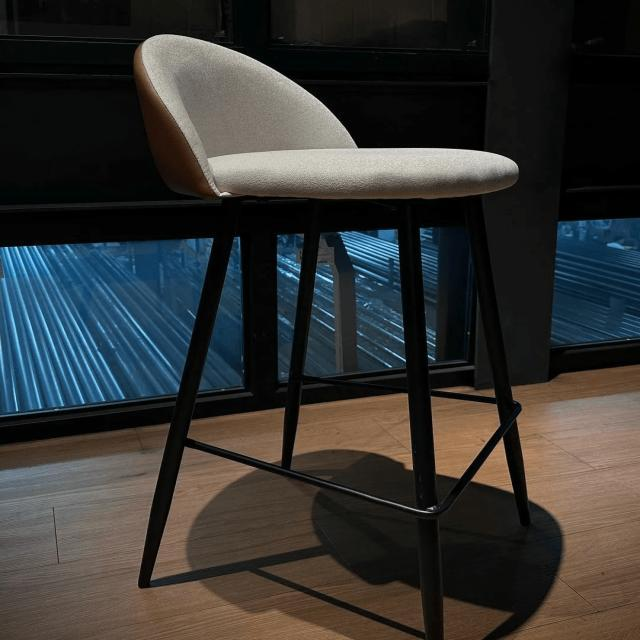chair: (121, 28, 542, 640)
